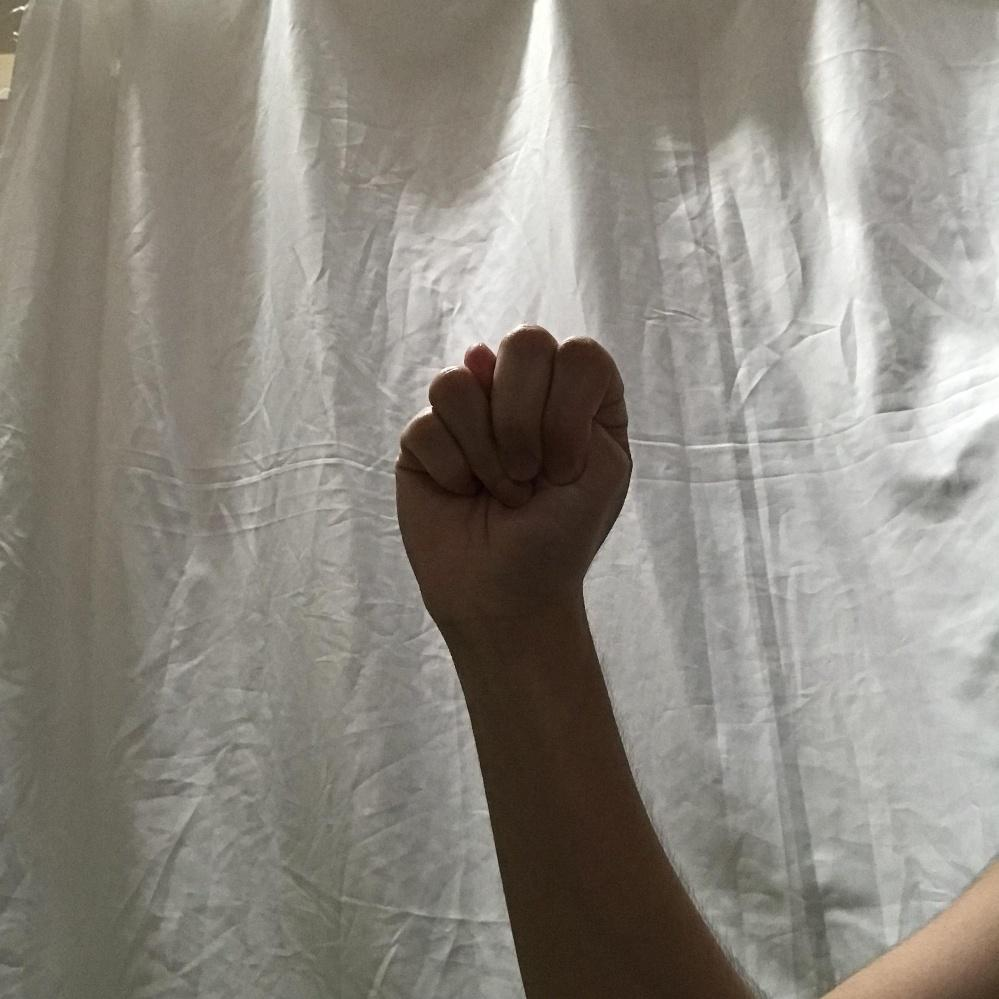n: (392, 325, 631, 594)
